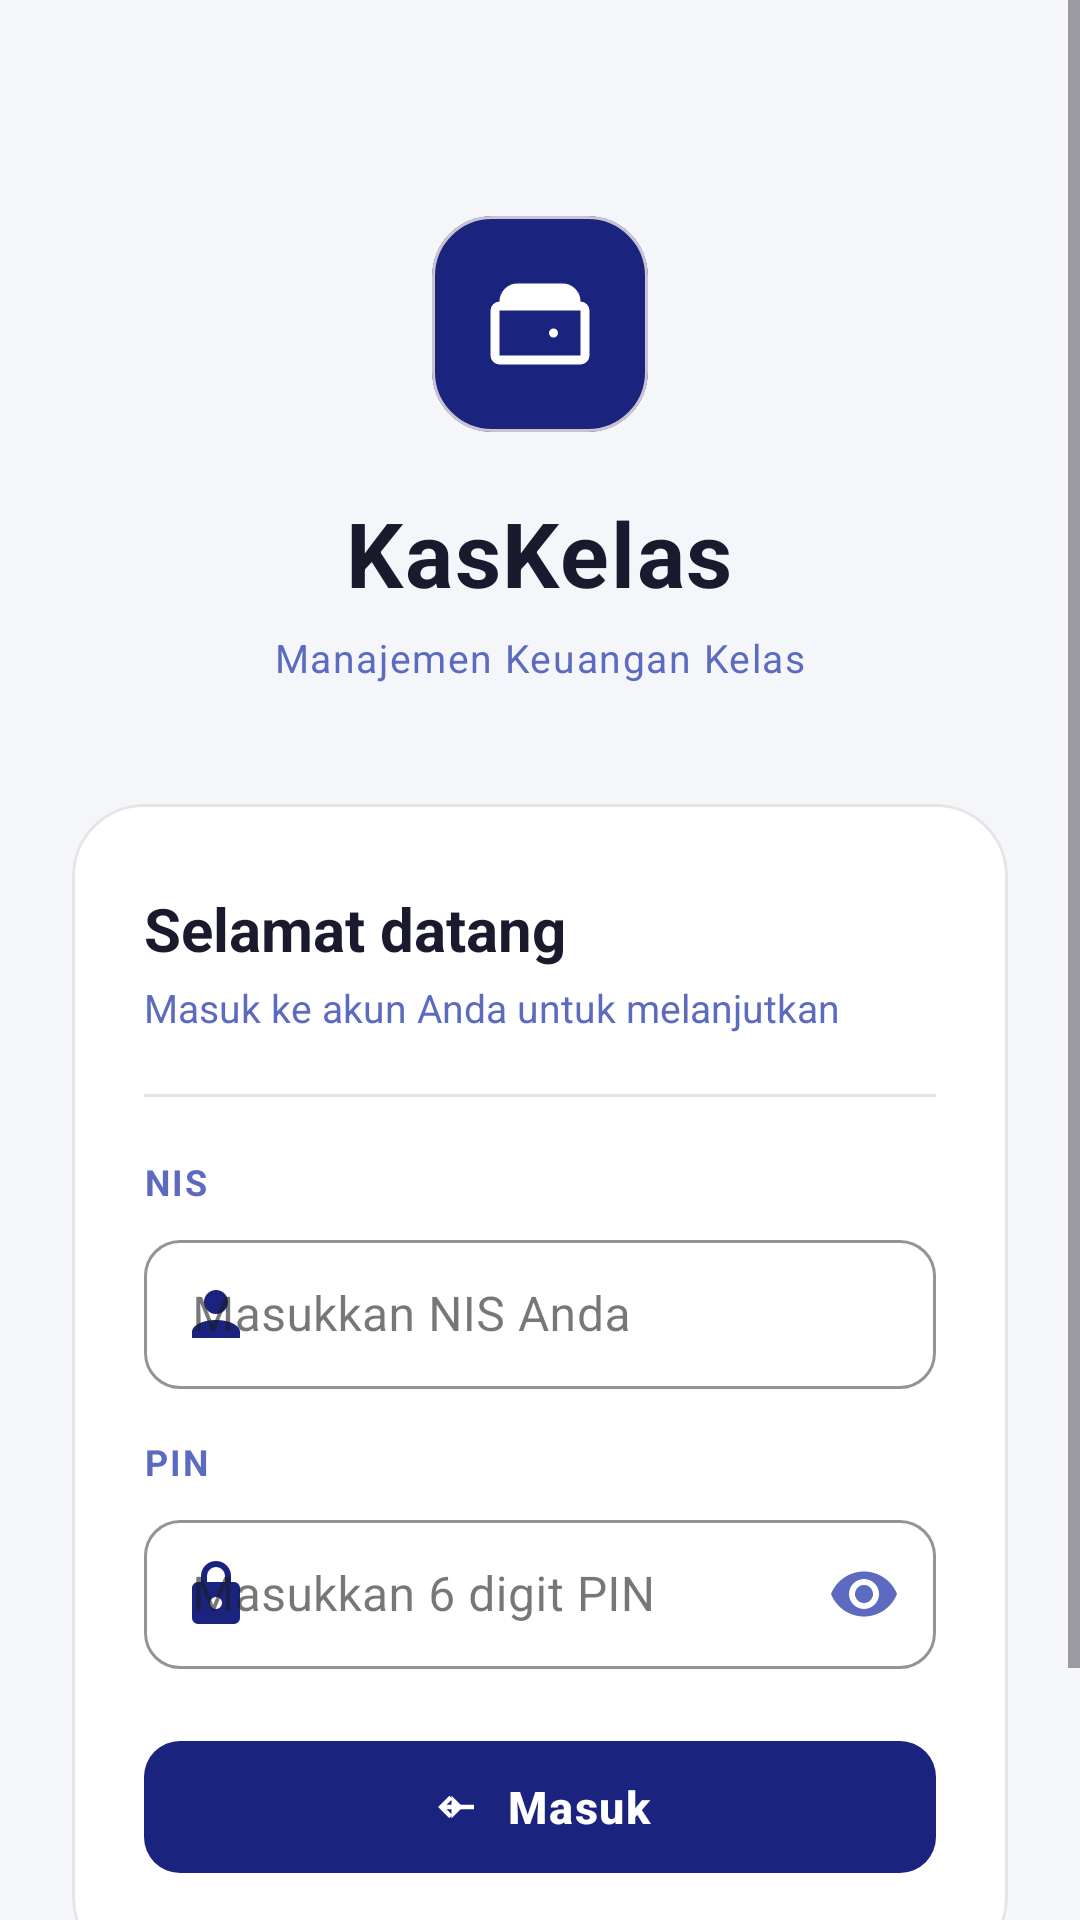

Where icons sit on this 1080px×1920px app screen, as box=[x1, y1, x2, y2]:
wallet: box=[490, 283, 590, 365]
